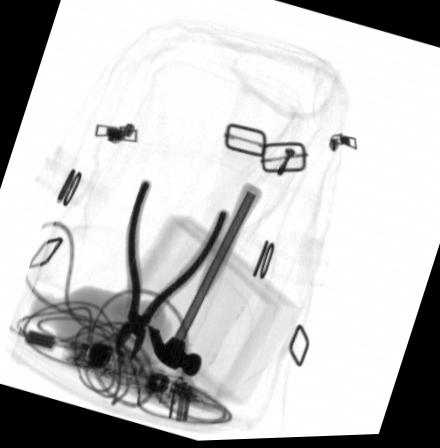Hammer: (145, 184, 261, 380)
Pliers: (113, 179, 228, 362)
